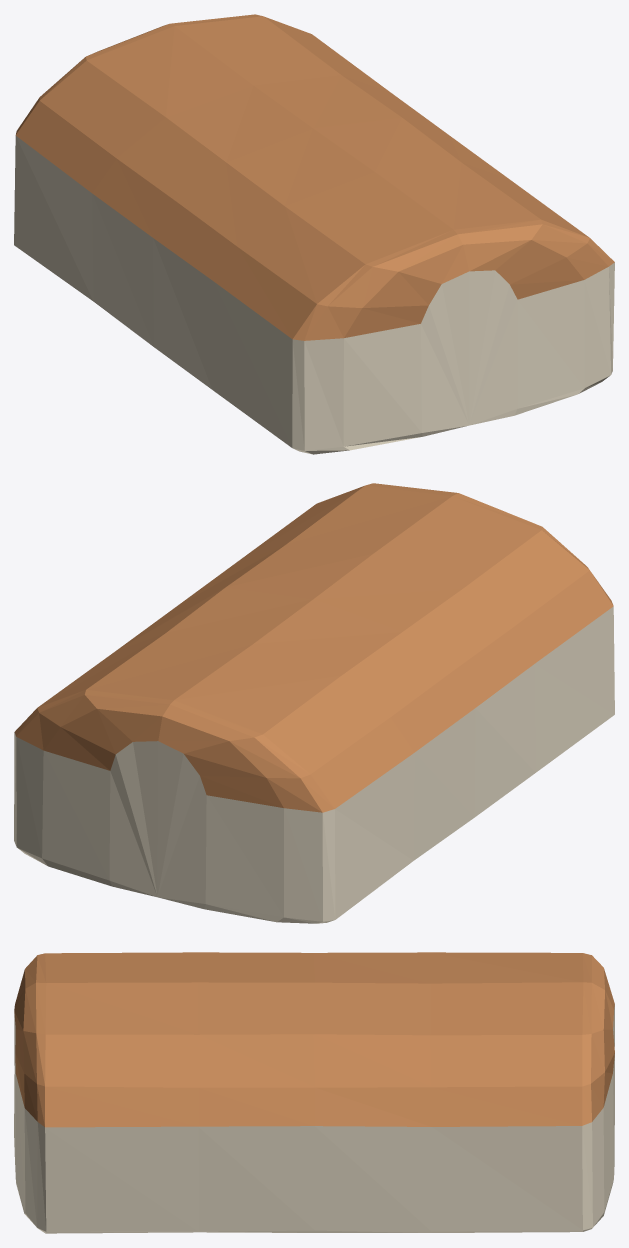
File: loaf.glb
The picture shows the model from 3 angles, top to bottom: view 1: azimuth 30°, elevation 25°; view 2: azimuth 150°, elevation 25°; view 3: azimuth 270°, elevation 25°; orthographic projection. The views are drawn at different scales.
Bounding box in the file's own units: 2.01 × 1.11 × 3.36.
